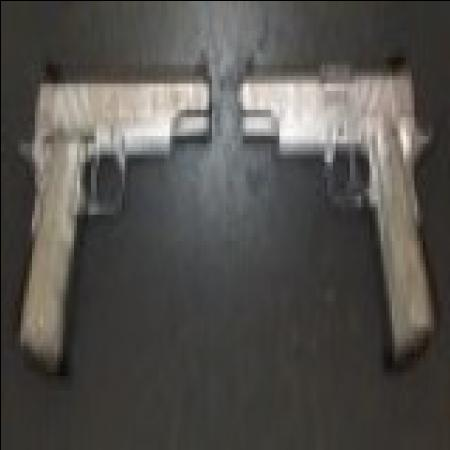Pistol: (236, 38, 442, 360), (17, 41, 211, 379)
